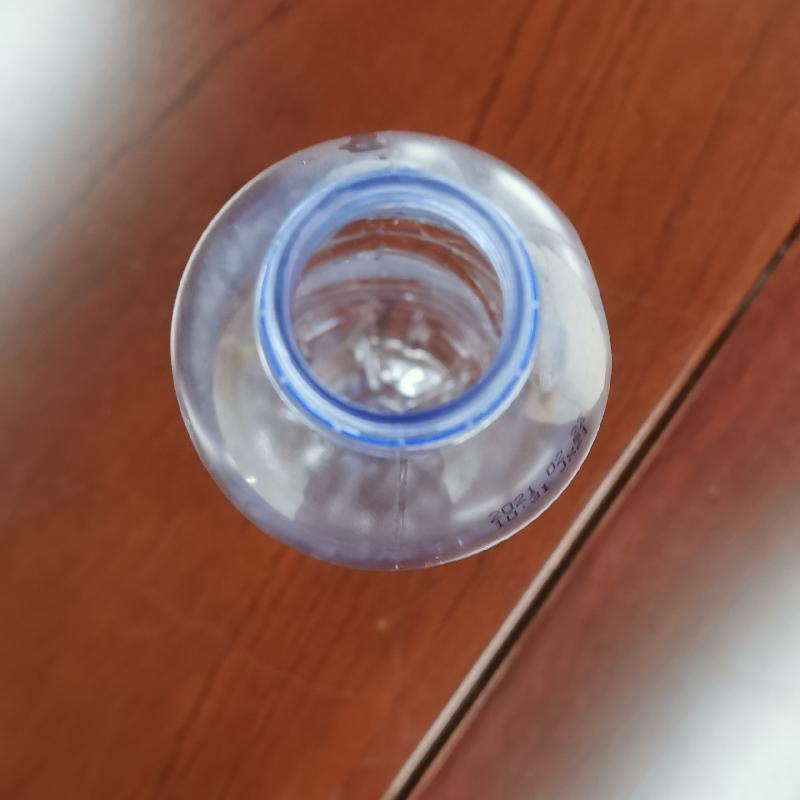bottles: (162, 128, 616, 574)
